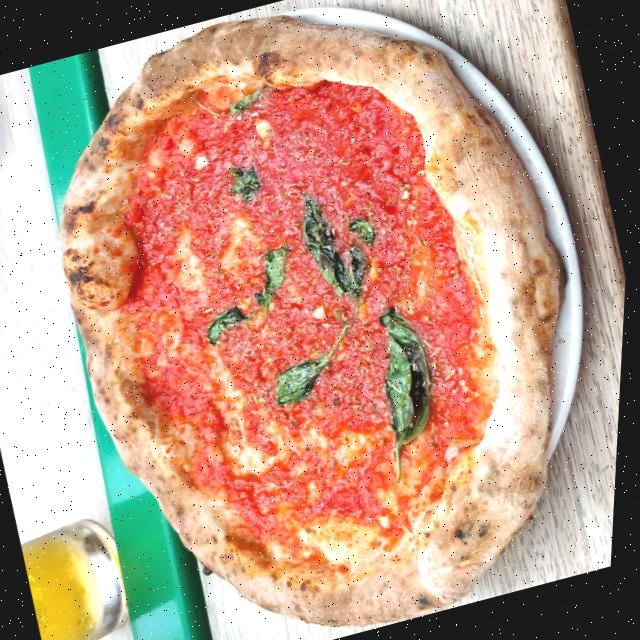basil: (361, 328, 446, 484), (368, 296, 454, 446), (263, 320, 369, 408), (328, 212, 400, 324), (291, 187, 356, 302), (242, 240, 309, 316), (193, 81, 272, 128), (202, 302, 257, 347), (224, 158, 268, 205)
pizza: (0, 0, 640, 640)
